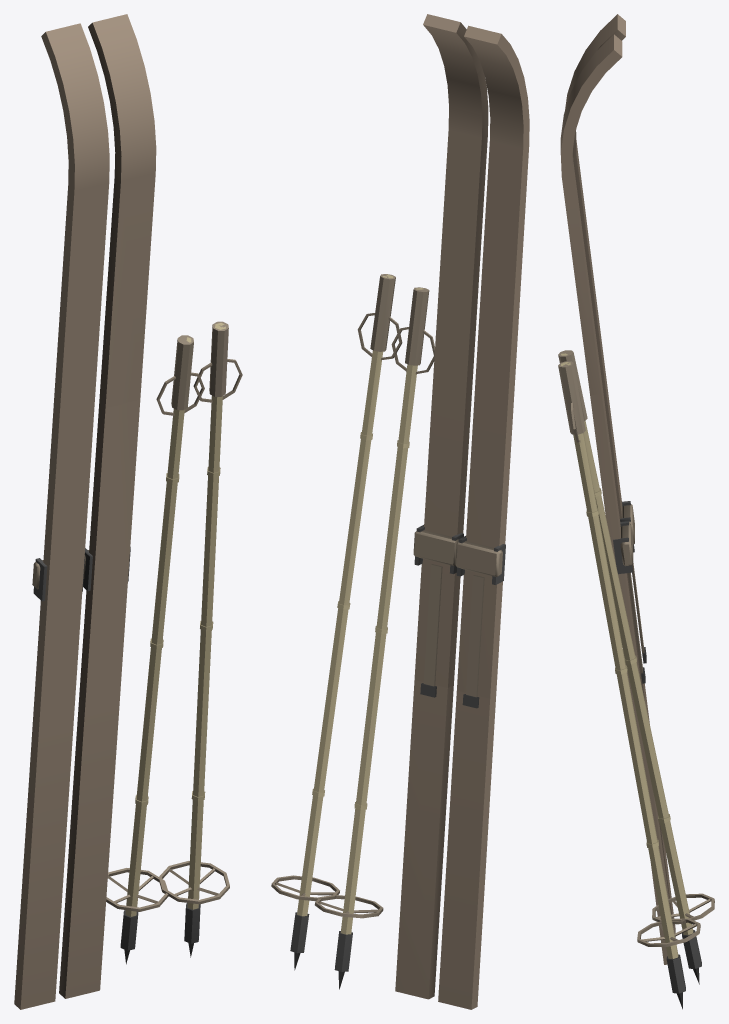
Rendered from skis_wall.glb.
3 renders of one model, left to right at view 1: azimuth 30°, elevation 25°; view 2: azimuth 150°, elevation 25°; view 3: azimuth 270°, elevation 25°, orthographic. The views are drawn at different scales.
Visible parts, largest first — view 1: static; view 2: static; view 3: static.
Boxes of the visible parts, x1,y1,x2,y2 form: static: (14, 14, 242, 1009); static: (271, 14, 529, 1009); static: (558, 14, 714, 1009).
Bounding box in the file's own units: 0.4278 × 1.91 × 0.2973.
